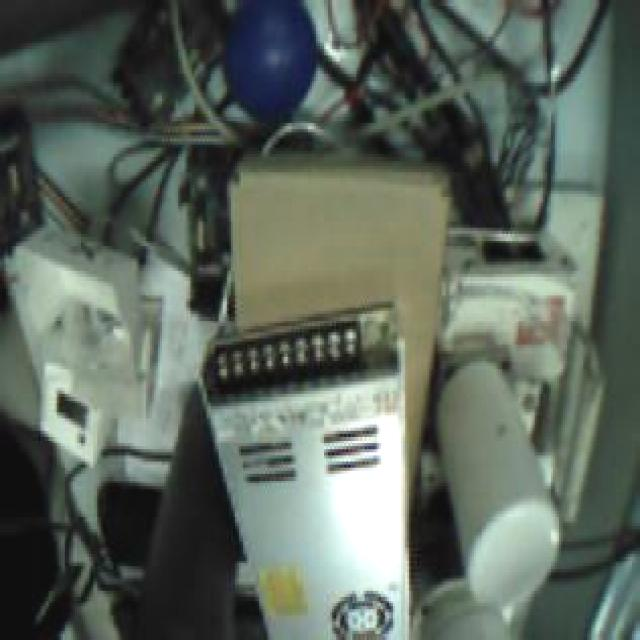BallPurple: (220, 0, 318, 118)
